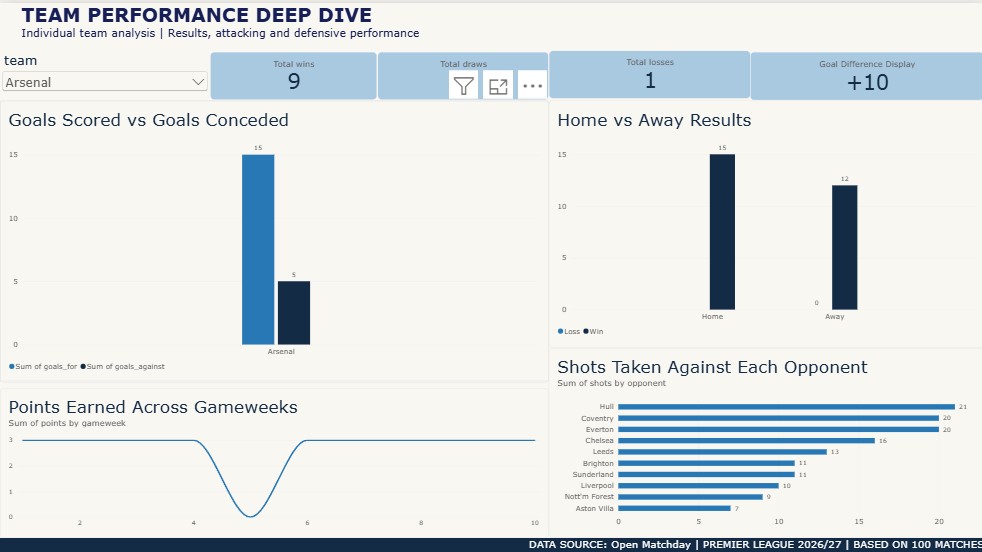

This screenshot's page, from the dashboard's own definition file:
{"tool":"powerbi","page":{"name":"Team Performance Deep Dive","canvas":[1920,1080],"ordinal":2},"visuals":[{"type":"textbox","box":[0,0,1920,95],"z":0},{"type":"slicer","fields":{"Values":["teamMatches.team"]},"box":[0,96,410,94],"z":1000},{"type":"cardVisual","title":"Total Wins","fields":{"Data":["matches.Wins"]},"box":[410,94,326,94],"z":2000},{"type":"cardVisual","title":"Total Draws","fields":{"Data":["matches.Draws"]},"box":[736,94,334.2,94.2],"z":3000},{"type":"cardVisual","title":"Total Losses","fields":{"Data":["matches.Losses"]},"box":[1070,93.6,394.2,94.2],"z":4000},{"type":"cardVisual","title":"Goal Difference","fields":{"Data":["matches.Goal Difference Display"]},"box":[1464.2,94.2,456.3,95.8],"z":5000},{"type":"clusteredColumnChart","title":"Goals Scored vs Goals Conceded","fields":{"Category":["teamMatches.team"],"Y":["Sum(teamMatches.goals_for)","Sum(teamMatches.goals_against)"]},"box":[0,190,1070,550],"z":6000},{"type":"lineChart","title":"Points Earned Across Gameweeks","fields":{"Category":["teamMatches.gameweek"],"Y":["Sum(teamMatches.points)"]},"box":[0,750,1070.5,293.2],"z":6001},{"type":"clusteredColumnChart","title":"Home vs Away Results","fields":{"Category":["teamMatches.venue"],"Series":["teamMatches.result"],"Y":["Sum(teamMatches.points)"]},"box":[1070.5,190.9,850,481.8],"z":6002},{"type":"clusteredBarChart","title":"Shots Taken Against Each Opponent","fields":{"Category":["teamMatches.opponent"],"Y":["Sum(teamMatches.shots)"]},"box":[1070.5,672.7,850,370.5],"z":6003},{"type":"textbox","title":"DATA SOURCE: Open Matchday | PREMIER LEAGUE 2026/27 | BASED ON 100 MATCHES","box":[0,1043.2,1920.5,36.4],"z":6004}]}

Visuals, with their boxes in screenshot pixels (x1, y1, x2, y2), scaled from the page's 1920x1080 canvas onto the 982x552 screenshot:
textbox: [0,0,981,49]
slicer - teamMatches.team: [0,49,210,97]
"Total Wins" cardVisual: [210,48,376,96]
"Total Draws" cardVisual: [376,48,547,96]
"Total Losses" cardVisual: [547,48,749,96]
"Goal Difference" cardVisual: [749,48,981,97]
"Goals Scored vs Goals Conceded" clusteredColumnChart: [0,97,547,378]
"Points Earned Across Gameweeks" lineChart: [0,383,548,533]
"Home vs Away Results" clusteredColumnChart: [548,98,981,344]
"Shots Taken Against Each Opponent" clusteredBarChart: [548,344,981,533]
"DATA SOURCE: Open Matchday | PREMIER LEAGUE 2026/27 | BASED ON 100 MATCHES" textbox: [0,533,981,551]
